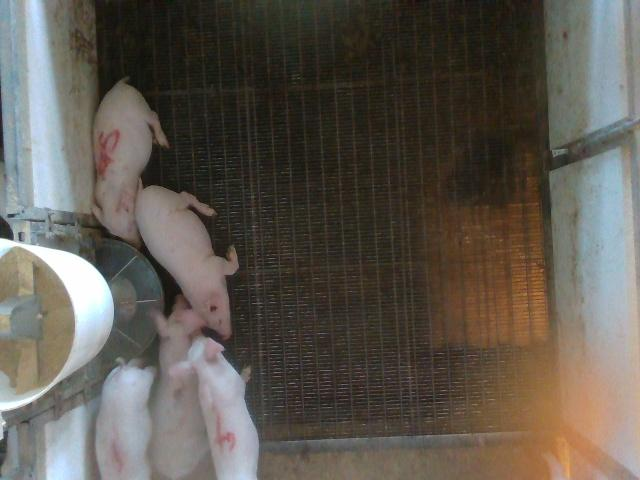pig-1: (95, 359, 155, 479)
pig-3: (150, 295, 209, 478)
pig-4: (169, 336, 259, 479)
pig-5: (92, 78, 169, 247)
